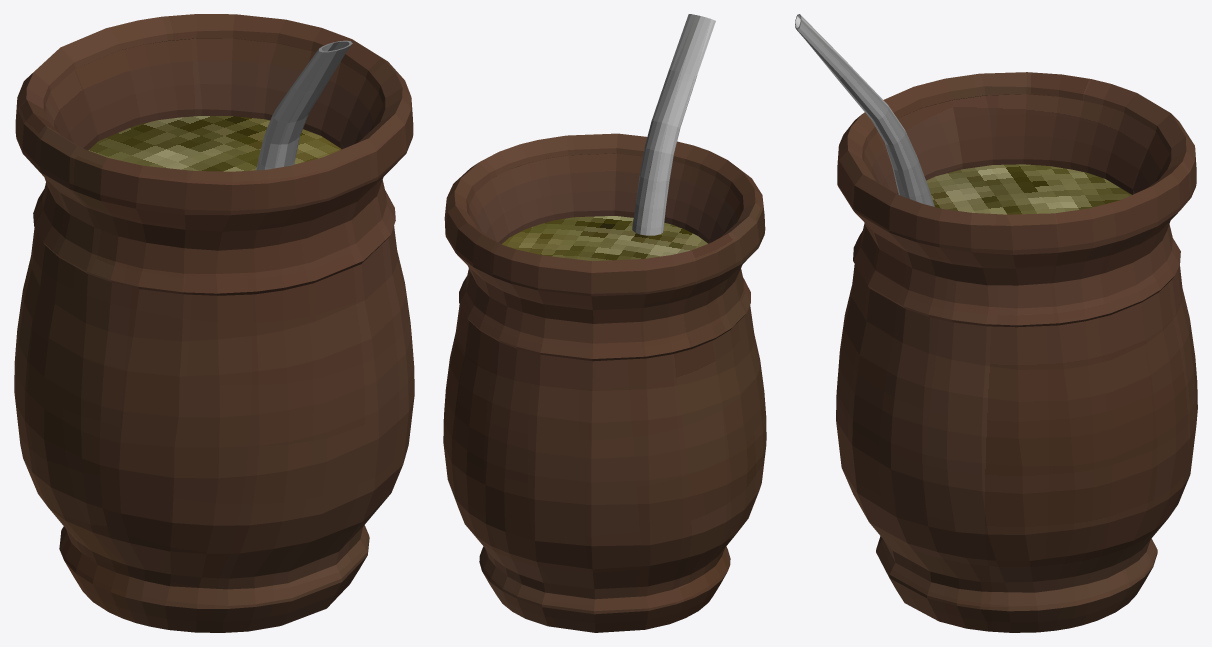
The model's file is Mate.fbx.
3 renders of one model, left to right at view 1: azimuth 30°, elevation 25°; view 2: azimuth 150°, elevation 25°; view 3: azimuth 270°, elevation 25°, orthographic. The views are drawn at different scales.
Visible parts, largest first — view 1: retopologia mate; view 2: retopologia mate; view 3: retopologia mate.
Part boxes in pixels (x1,y1,x2,y2): retopologia mate: [14, 14, 414, 632]; retopologia mate: [443, 14, 766, 632]; retopologia mate: [795, 14, 1197, 632].
Size of the model in its own units: 3.39 by 5.79 by 3.76.
